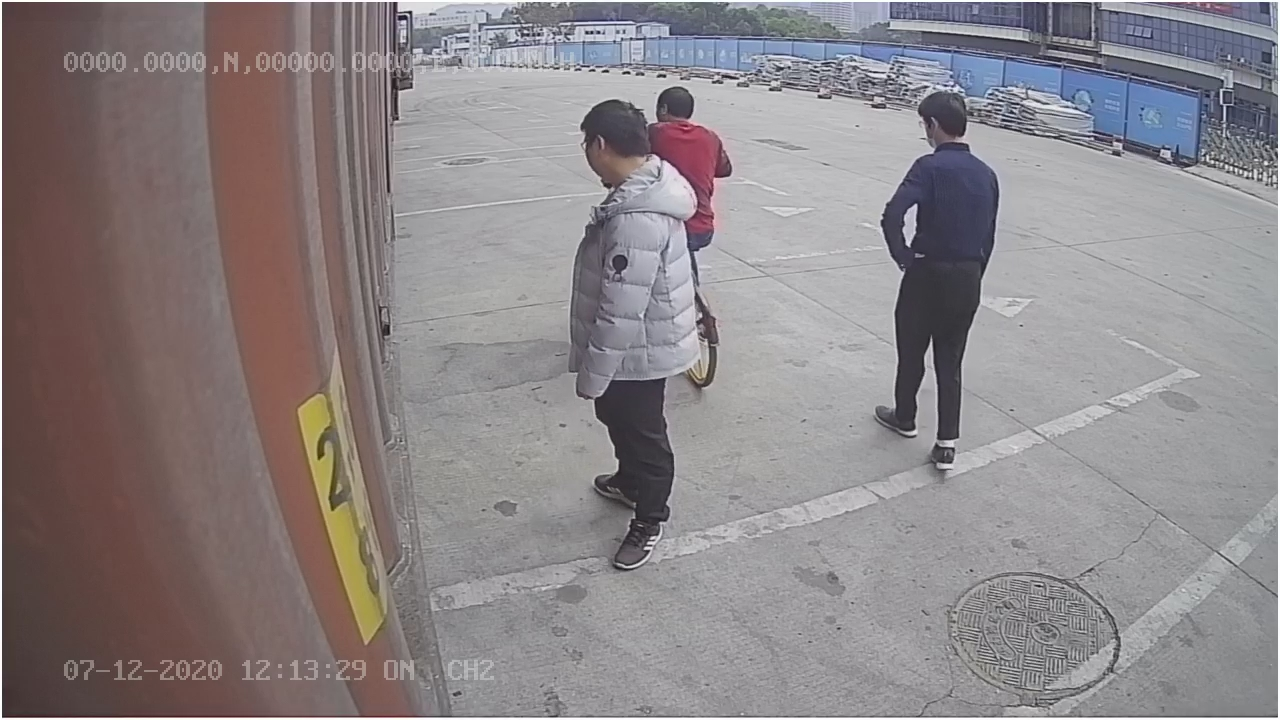person: (869, 85, 1001, 468)
